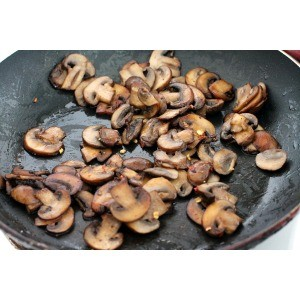mushroom_brain food: (50, 117, 266, 225)
